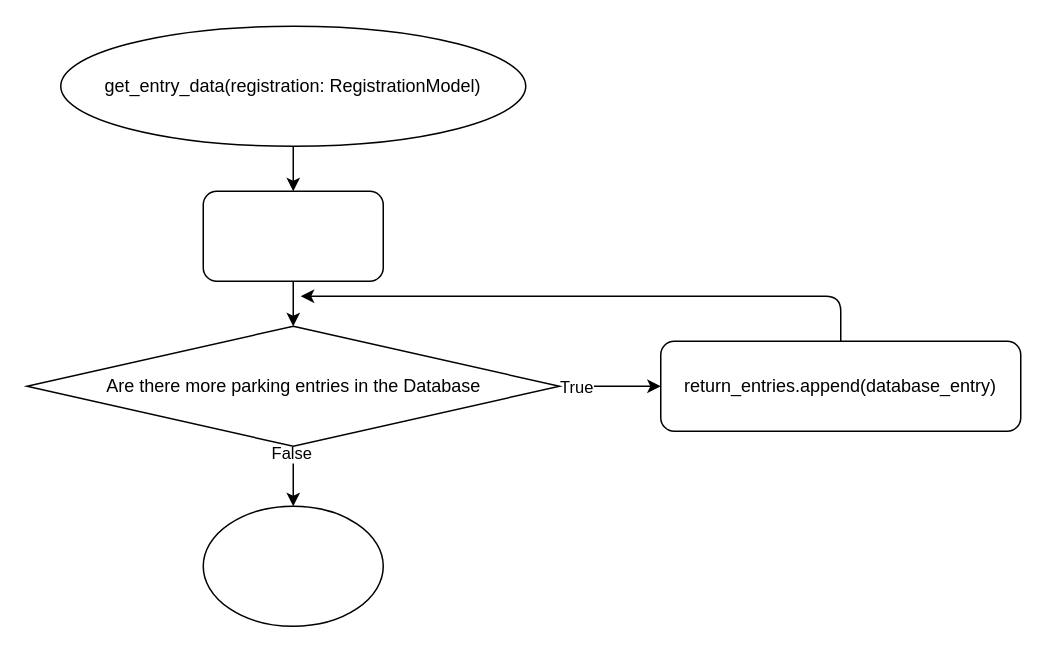
The diagram is 1047 pixels wide and 653 high, and some of its shapes have lost their labels. The shapes that lost their labels are listed below. From the top down, each one's centre as x and y in pixels, then its label:
the point at 292,235: return_entries = []
the point at 292,565: return return_entries
